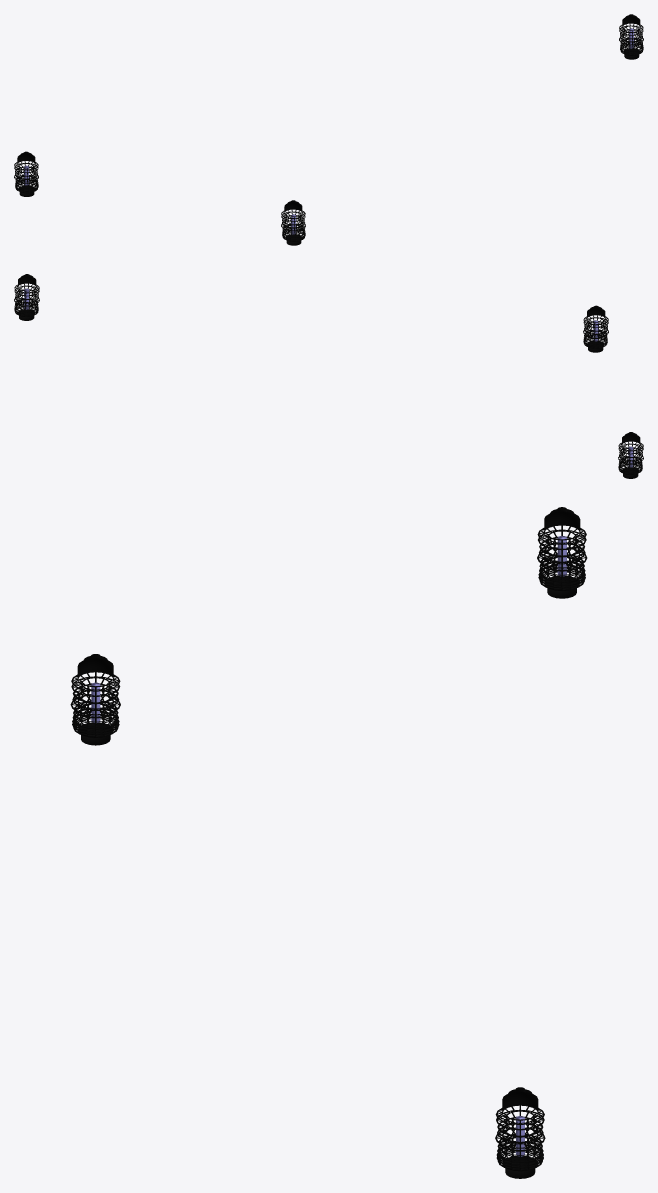
Rendered from Luces.fbx.
3 renders of one model, top to bottom at view 1: azimuth 30°, elevation 25°; view 2: azimuth 150°, elevation 25°; view 3: azimuth 270°, elevation 25°, orthographic. The views are drawn at different scales.
Visible parts, largest first — view 1: LuzGuia.001, LuzGuia.002, LuzGuia; view 2: LuzGuia.001, LuzGuia, LuzGuia.002; view 3: LuzGuia, LuzGuia.002, LuzGuia.001.
Part boxes in pixels (x1,y1,x2,y2): LuzGuia.001: (281,200,305,245); LuzGuia.002: (619,14,643,59); LuzGuia: (14,151,38,196); LuzGuia.001: (583,305,608,352); LuzGuia: (618,432,643,478); LuzGuia.002: (14,274,39,320); LuzGuia: (537,507,587,598); LuzGuia.002: (495,1087,545,1178); LuzGuia.001: (70,654,120,745).
Bounding box in the file's own units: 1009 × 64.8 × 367.
